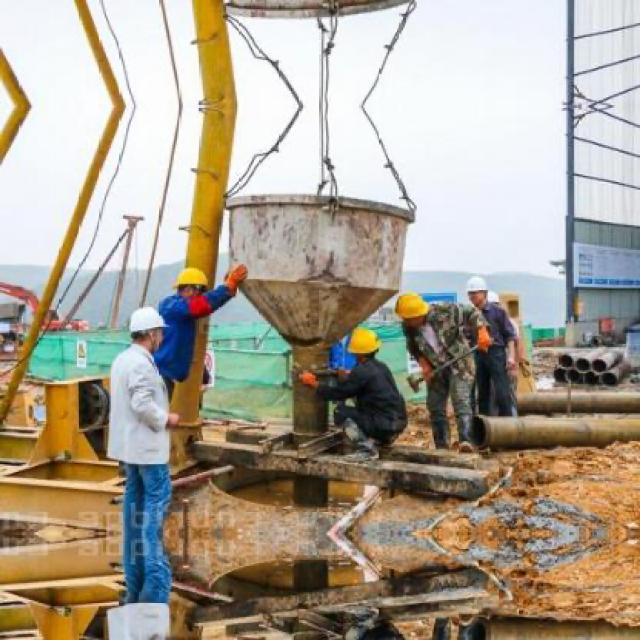helmet: (129, 304, 166, 350), (391, 290, 432, 331), (346, 324, 383, 361), (176, 267, 210, 302), (462, 273, 491, 308)
